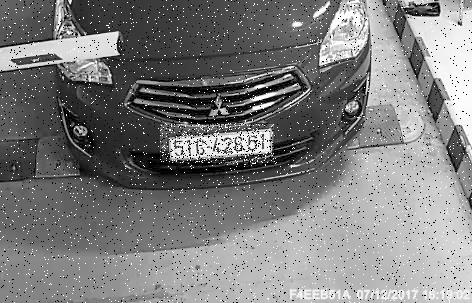License-plate: (161, 126, 275, 166)
